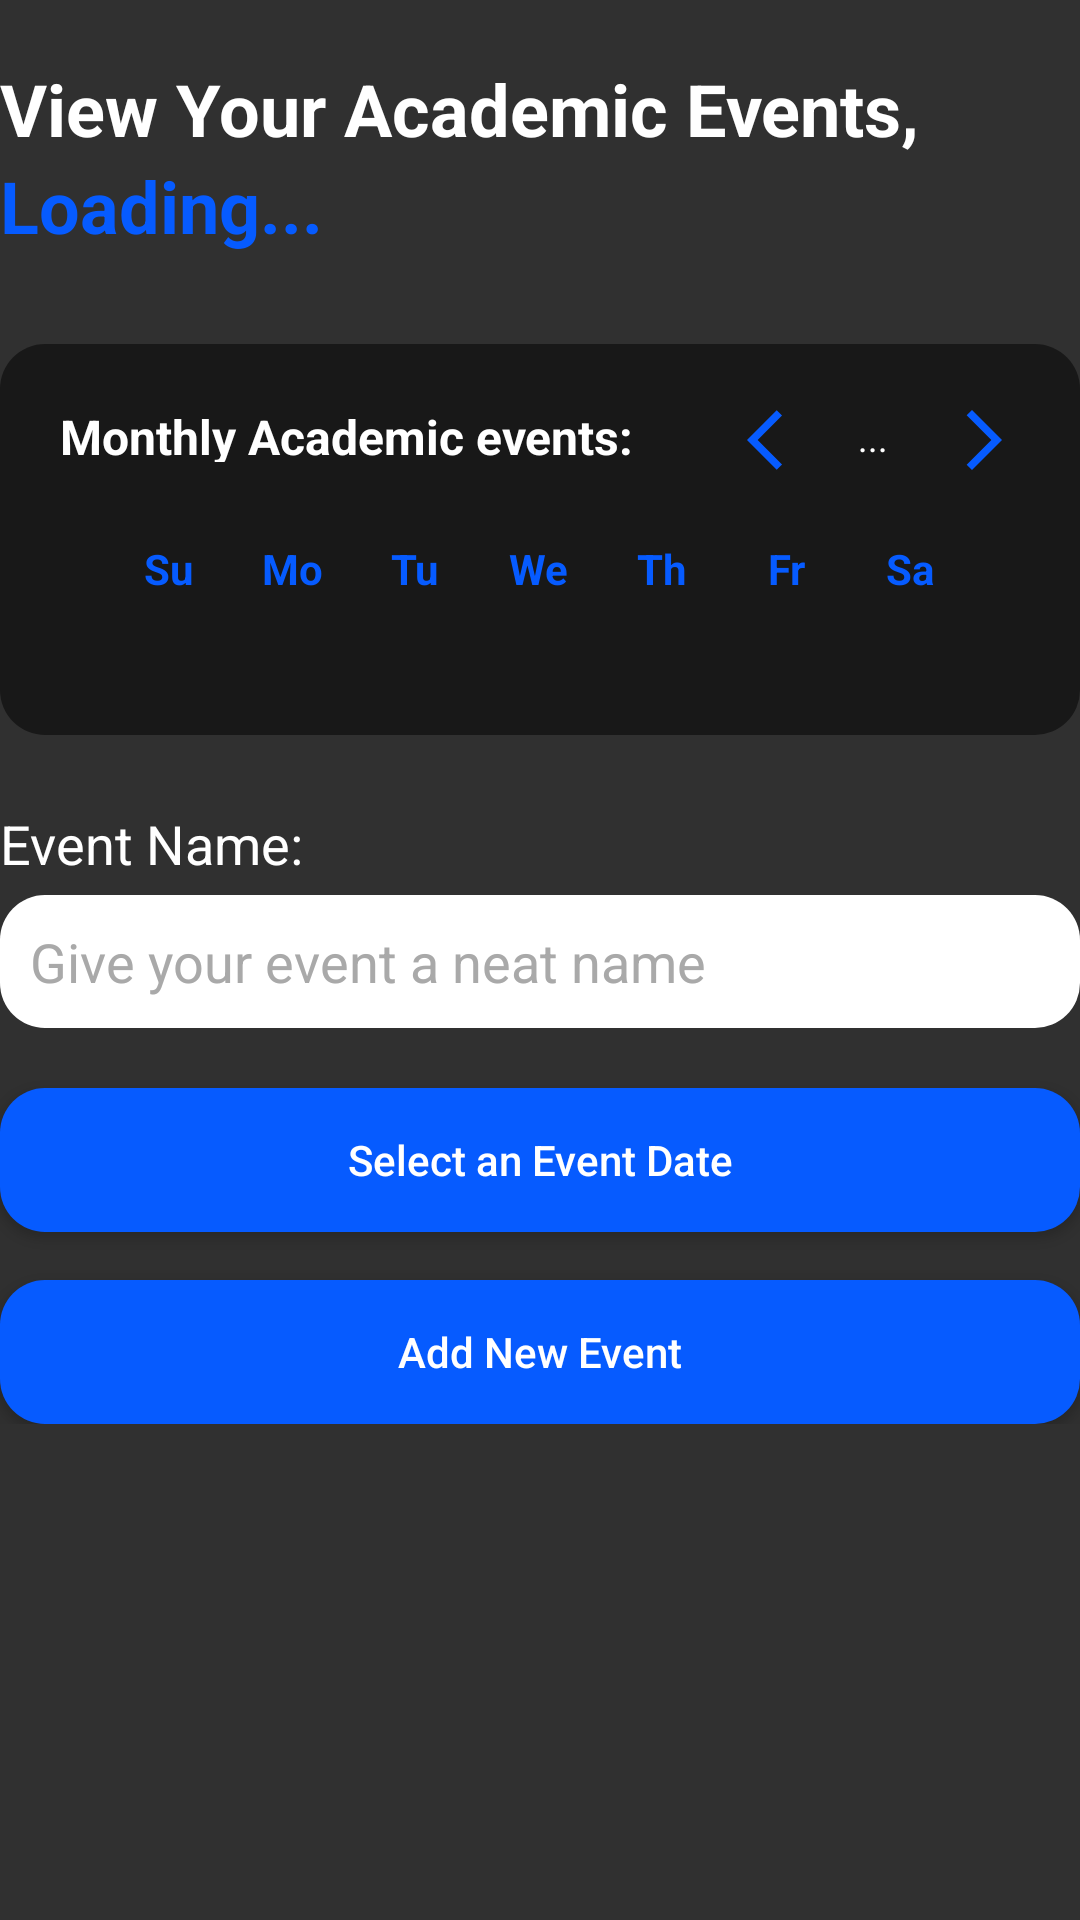

Locate icon controls on the screen. Image size 1080 × 1920, boxes as (x1, y1, x2, y2).
next month: (967, 410, 1002, 470)
previous month: (747, 410, 782, 470)
